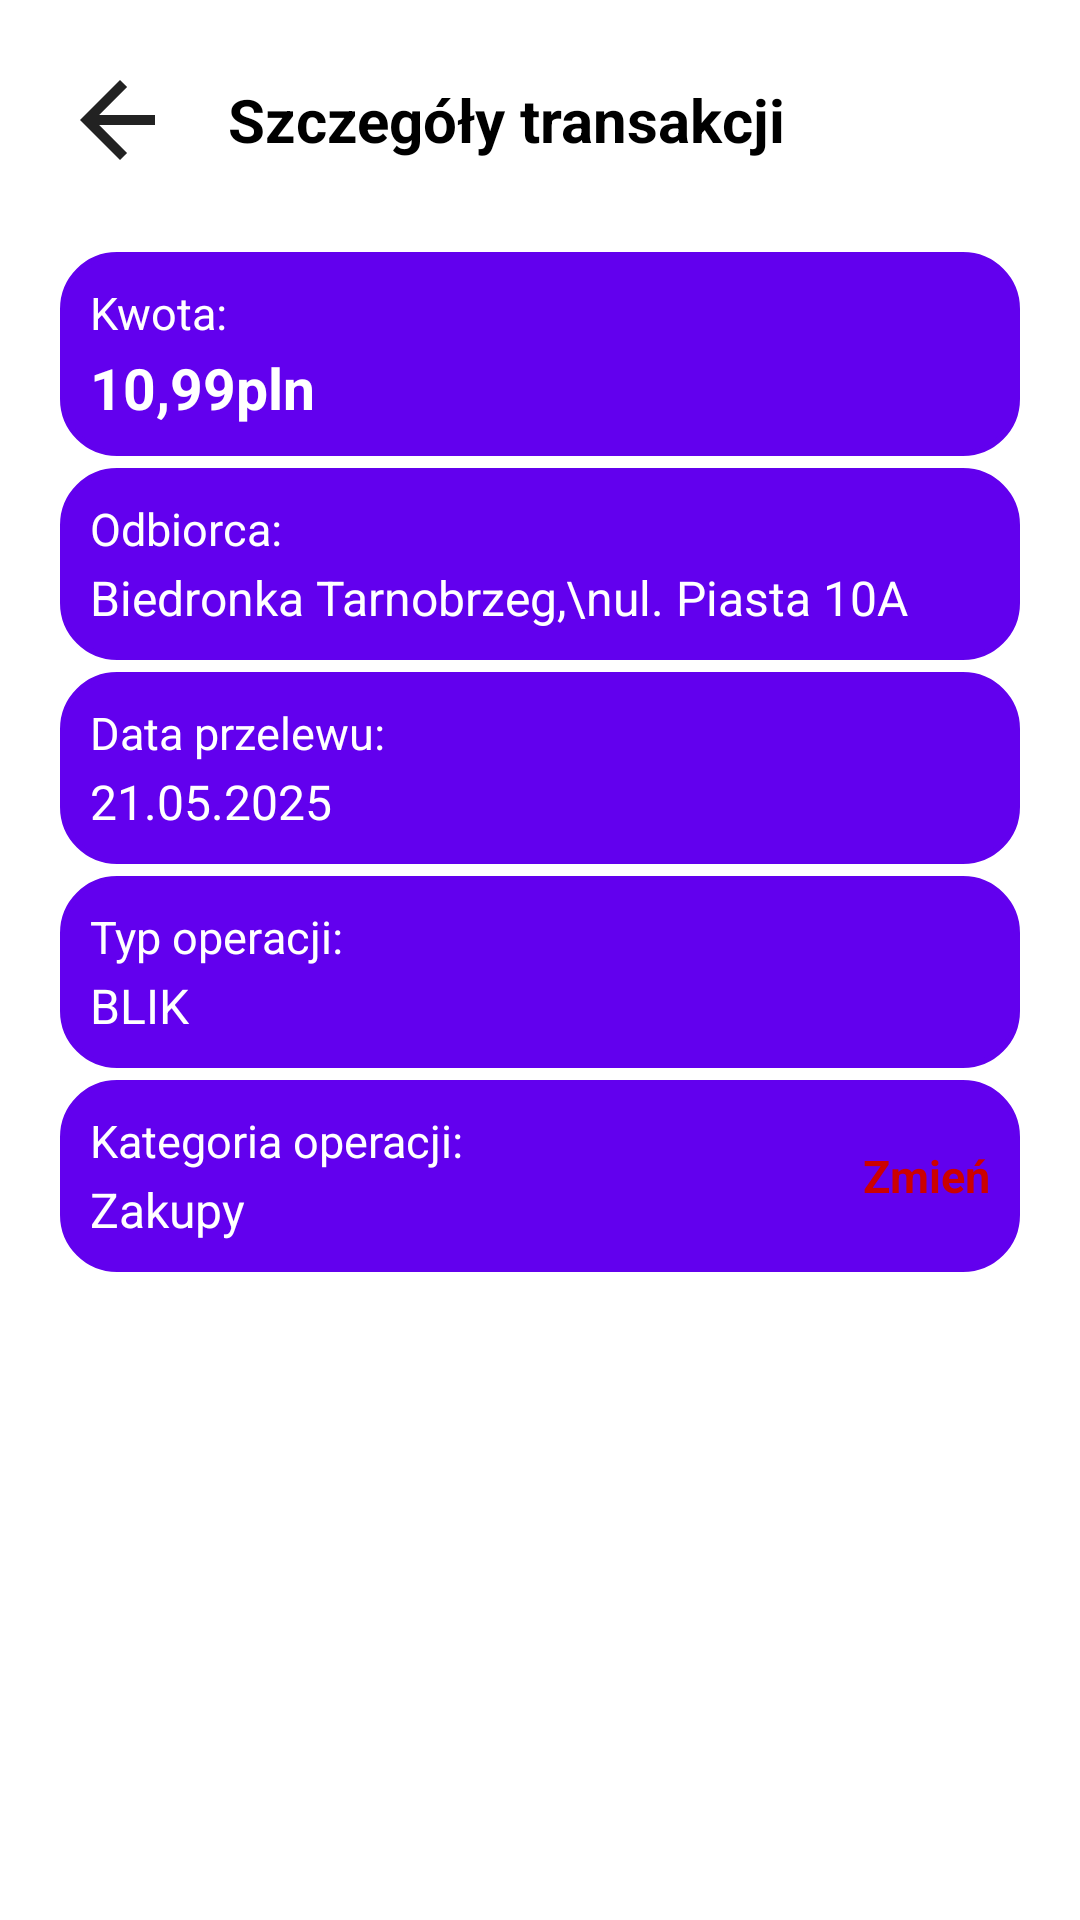

Screen size 1080 x 1920. Icon name, then its center in pixels as (x=x, y=y):
Wstecz: (x=117, y=120)
